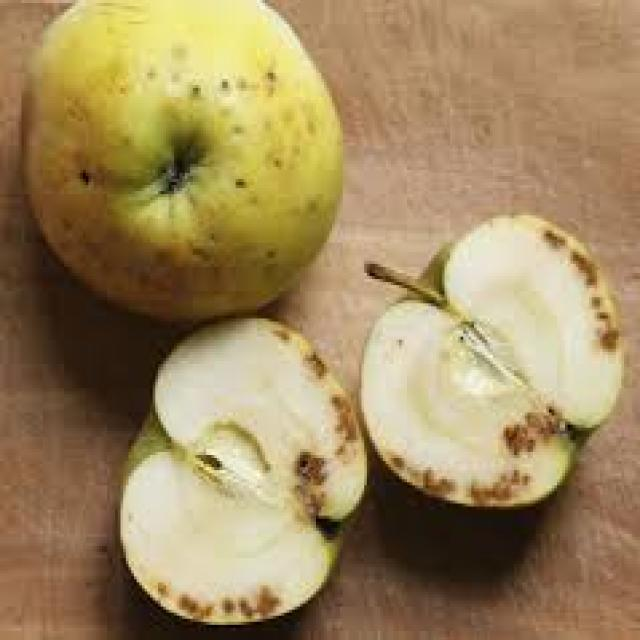organic waste: (14, 0, 338, 322), (113, 312, 364, 628), (354, 209, 618, 507)
